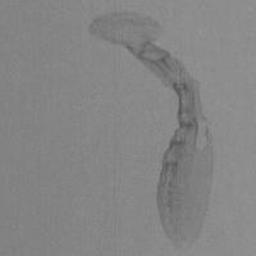Water spot: (87, 9, 215, 255)
